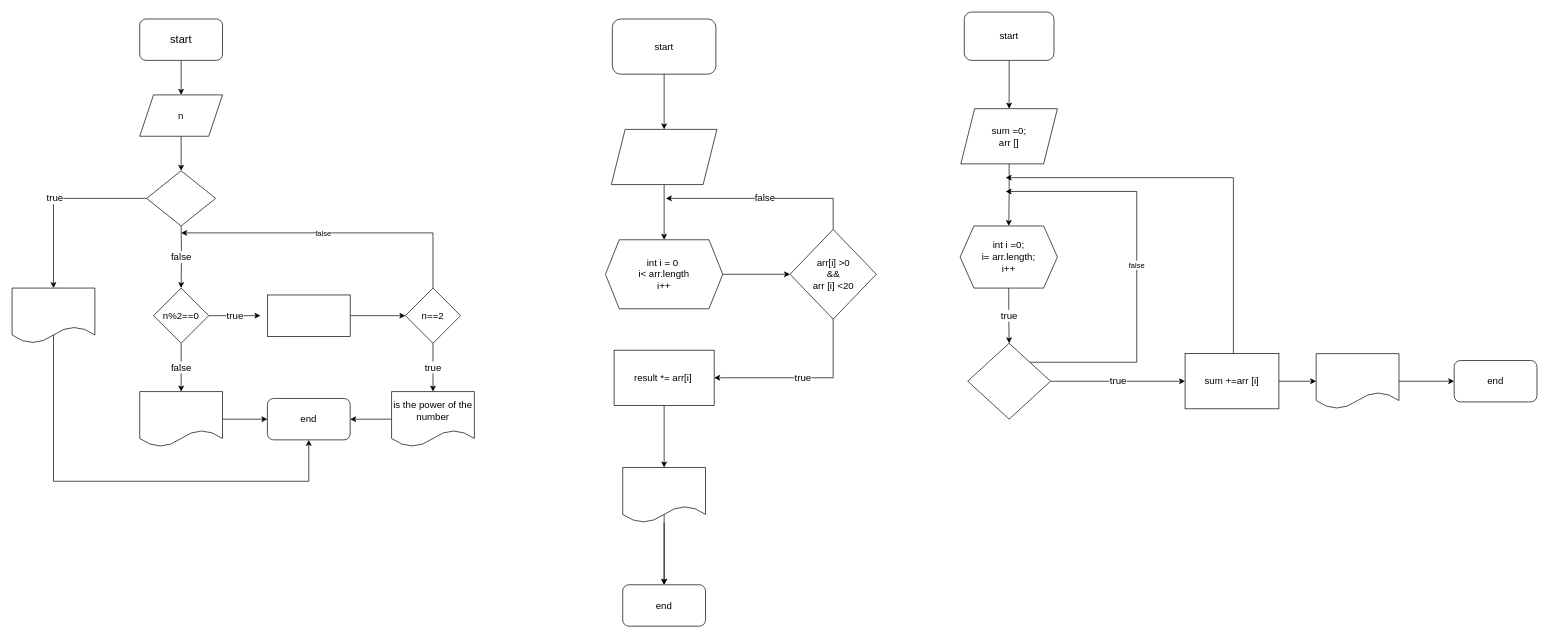
Some shapes in this 1549 by 638 pixel diagram are drawn without their labels. The centre of each missing label's shape, as x and y in pixels:
"arr[i] % 2 == 0" belongs at [1009,381].
"enter the correct number" belongs at [53,315].
"n= n / 2;" belongs at [308,315].
"n==2; n<2;" belongs at [181,198].
"not a force of 2" belongs at [181,419].
"result" belongs at [664,495].
"result = 1 arr []" belongs at [664,157].
"sum * sum" belongs at [1357,381].
